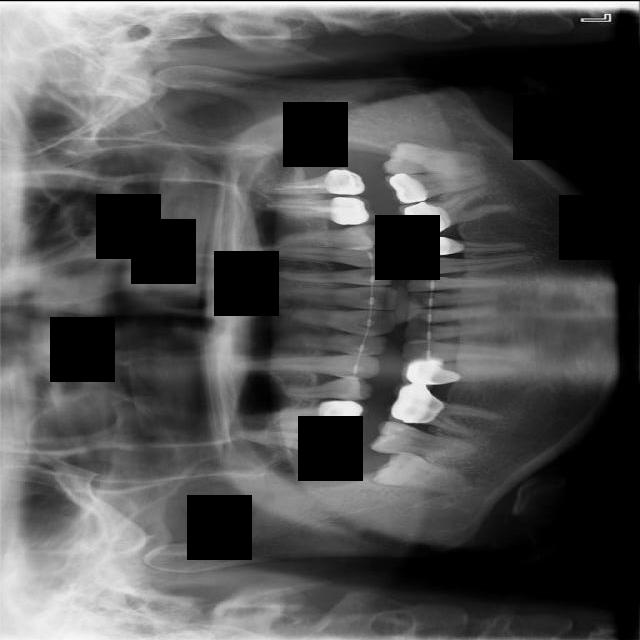52: (385, 382, 448, 428), (395, 198, 452, 239), (317, 399, 367, 433), (400, 358, 463, 384), (329, 195, 378, 225), (409, 235, 465, 257)
73: (234, 428, 359, 460), (227, 172, 332, 208), (255, 194, 334, 220), (580, 12, 604, 24)
BioHorizons Implant: (235, 167, 367, 194)
Biomet 3i Implant: (382, 141, 479, 174)
Blue Sky Bio Implant: (383, 168, 489, 205)
Implant: (368, 419, 476, 459)
Keystone Dental Implant: (371, 446, 476, 497)
